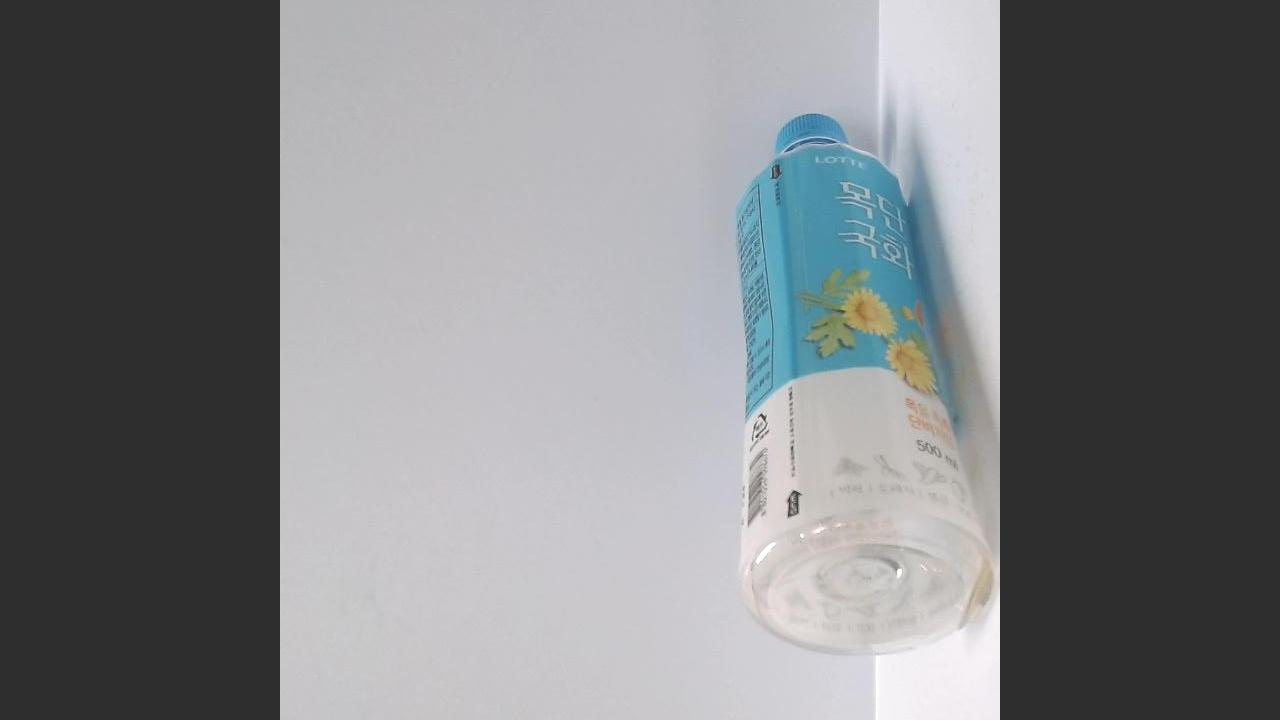bottle: (697, 94, 980, 682)
